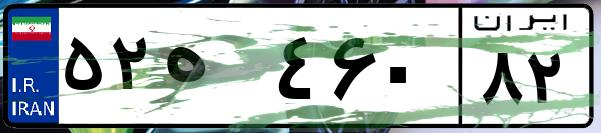0: (385, 28, 445, 110)
2: (525, 38, 570, 115), (110, 28, 158, 98)
4: (270, 28, 330, 110)
5: (57, 26, 110, 100)
6: (330, 28, 385, 110)
8: (475, 38, 525, 113)
ه: (158, 20, 270, 120)
